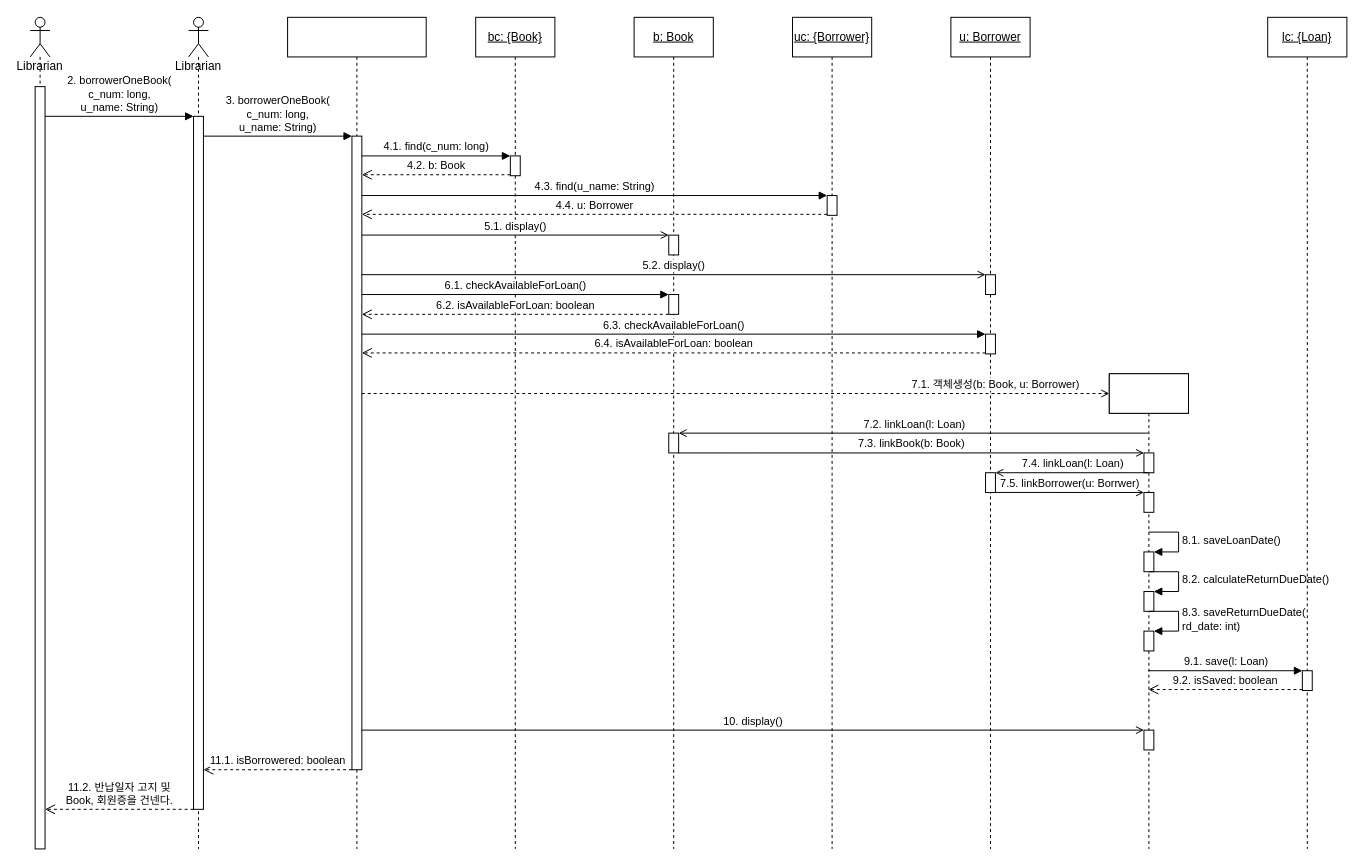
Image size: 1364x866. Some labels were removed from this diagram. Each missing label, with the box of its shape:
app: LibraryApplication: (287, 16, 426, 849)
l: Loan: (1108, 373, 1188, 413)
